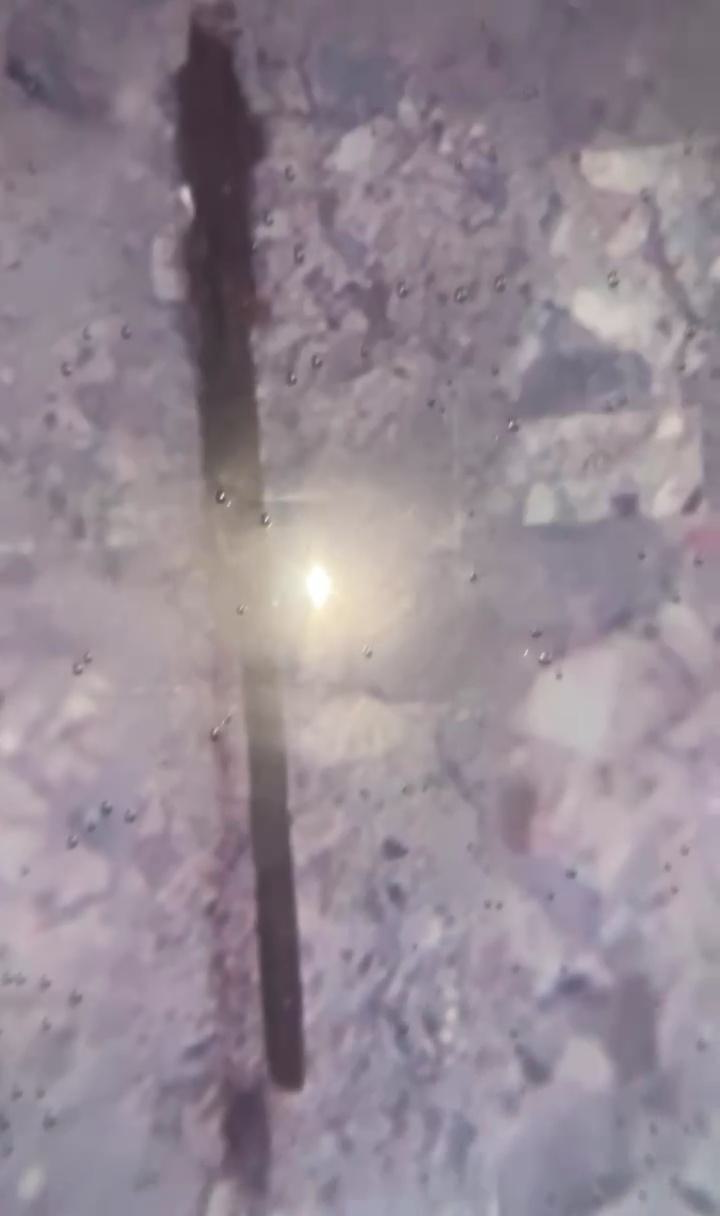Exposed reinforcement: (169, 1, 306, 1094)
